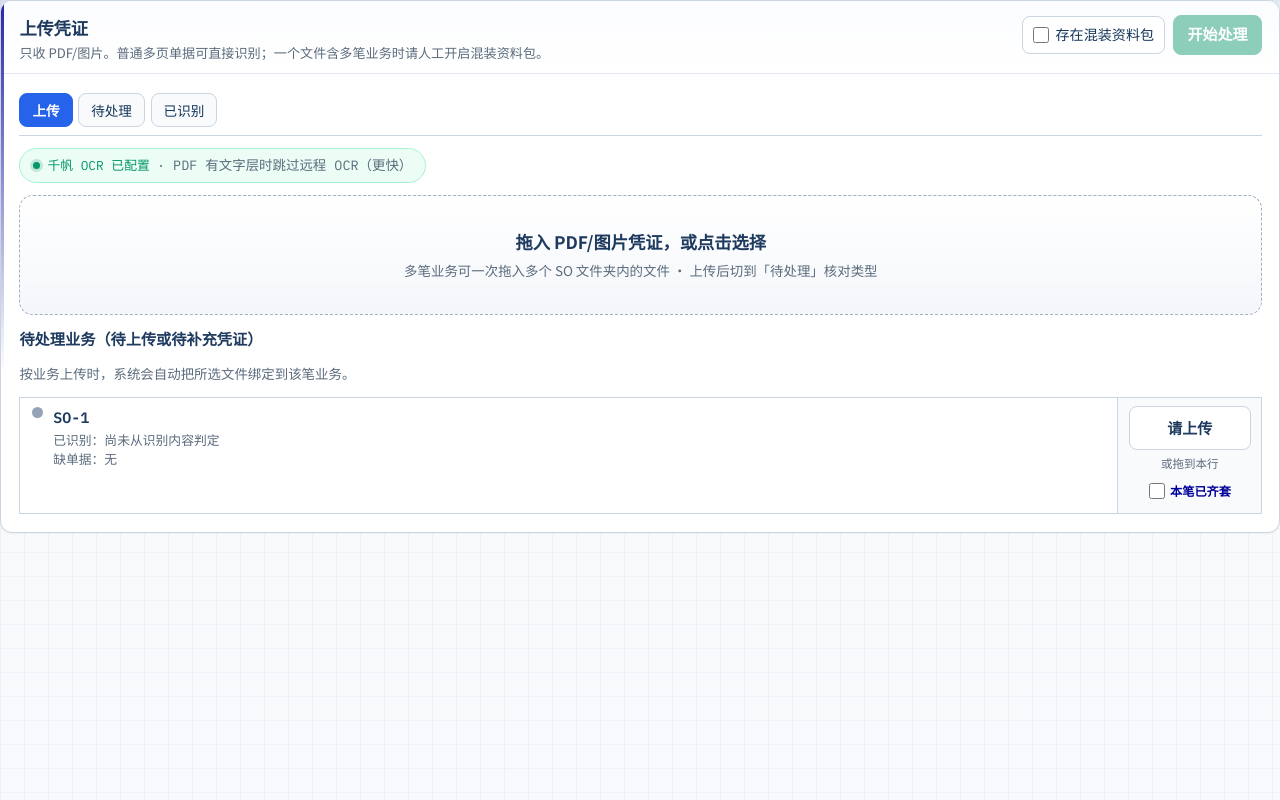
Test: UploadPage V2 › shows mixed-package upload only after the auditor opts in
The width and height of the screenshot is (1280, 800).
Expected: the button "上传混装资料包" is not shown
Step 1. Click the checkbox labelled "存在混装资料包" → coordinates (1041, 35), box [1033,27,1049,43]
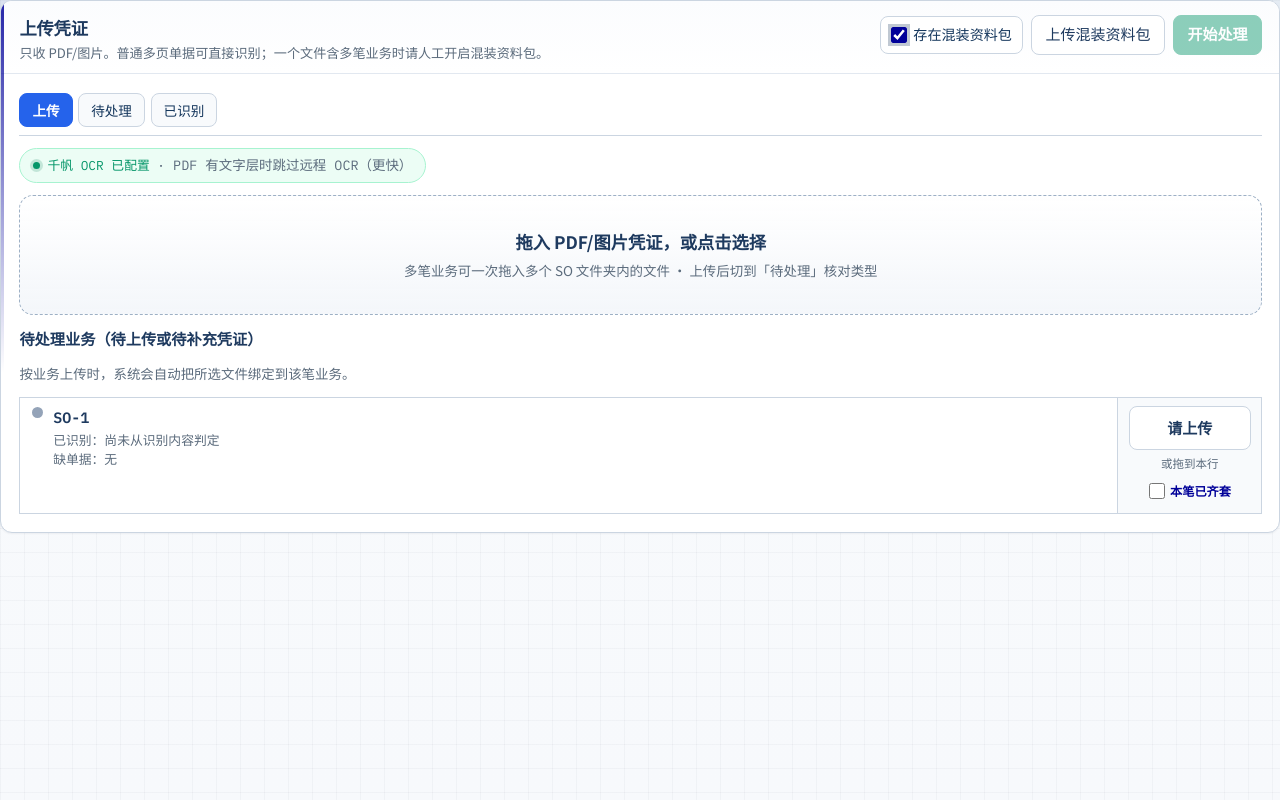
Expected: the heading "待处理业务（待上传或待补充凭证）" is shown, [19,327,262,349]
Now the button "上传混装资料包" is enabled, box [1031,15,1165,55]
